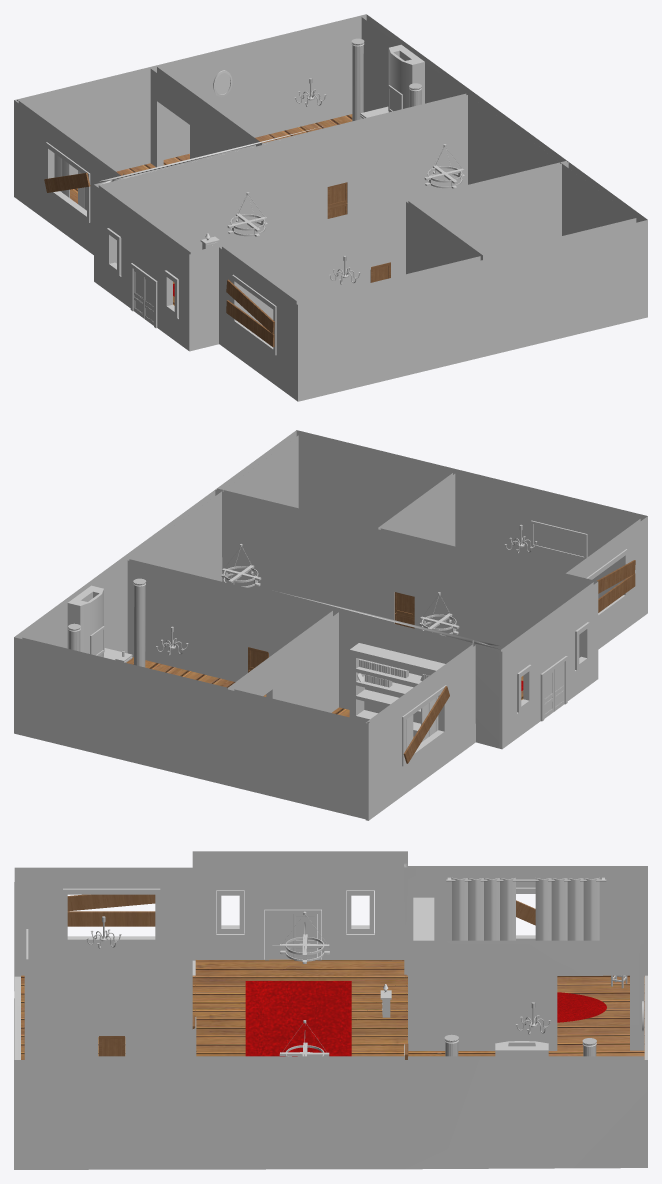
File: Casa Mapa piso 1.fbx
3 views of the same model, one above another, from view 1: azimuth 30°, elevation 25°; view 2: azimuth 150°, elevation 25°; view 3: azimuth 270°, elevation 25° (orthographic). The views are drawn at different scales.
Visible parts, largest first — view 1: Box042, Object014, Box065, Box288, Box127, Cylinder008, Box130, Box283, Box284, Door002, Circle002, Circle003 (+3 smaller); view 2: Box042, Object014, Box128, Box065, Box016, Cylinder009, Box127, Box288, Box133, Door001, Circle003, Box116 (+5 smaller); view 3: Box042, Box288, Cylinder018, Plane002, Box130, Box284, Box283, Cylinder017, Object002, Box128, Object001, Box065 (+7 smaller).
Boxes of the visible parts, <box> form: Box042: <box>14,14,647,401</box>; Object014: <box>296,218,641,400</box>; Box065: <box>360,44,424,118</box>; Box288: <box>70,114,352,305</box>; Box127: <box>46,142,90,222</box>; Cylinder008: <box>351,38,364,121</box>; Box130: <box>232,274,276,355</box>; Box283: <box>226,279,274,333</box>; Box284: <box>226,300,274,347</box>; Door002: <box>327,182,347,218</box>; Circle002: <box>227,192,267,236</box>; Circle003: <box>424,144,464,188</box>; Box042: <box>14,430,647,820</box>; Object014: <box>298,431,644,598</box>; Box128: <box>349,643,445,736</box>; Box065: <box>67,585,132,662</box>; Box016: <box>531,520,587,559</box>; Cylinder009: <box>133,578,146,667</box>; Box127: <box>402,685,446,766</box>; Box288: <box>126,657,523,737</box>; Box133: <box>403,686,449,763</box>; Door001: <box>394,592,414,628</box>; Circle003: <box>221,544,261,587</box>; Box116: <box>517,664,531,712</box>; Box042: <box>14,851,647,1169</box>; Box288: <box>21,959,644,1059</box>; Cylinder018: <box>446,877,606,940</box>; Plane002: <box>245,981,351,1056</box>; Box130: <box>63,888,160,944</box>; Box284: <box>67,911,155,926</box>; Box283: <box>67,894,155,911</box>; Cylinder017: <box>557,992,606,1022</box>; Object002: <box>269,914,292,959</box>; Box128: <box>413,897,434,940</box>; Object001: <box>293,914,316,959</box>; Box065: <box>495,1041,548,1056</box>.
Bounding box in the file's own units: 1186 × 302 × 1515.
